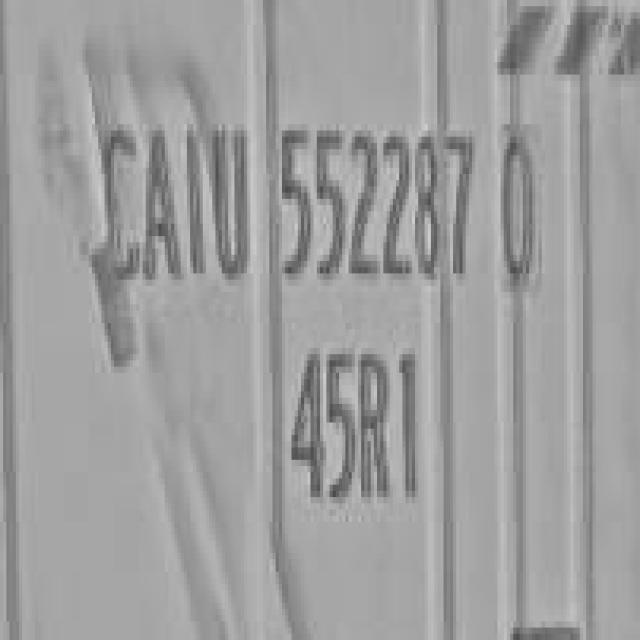dv: (492, 123, 546, 297)
owner: (100, 98, 256, 298)
serial: (276, 106, 477, 288)
size: (288, 334, 429, 524)
